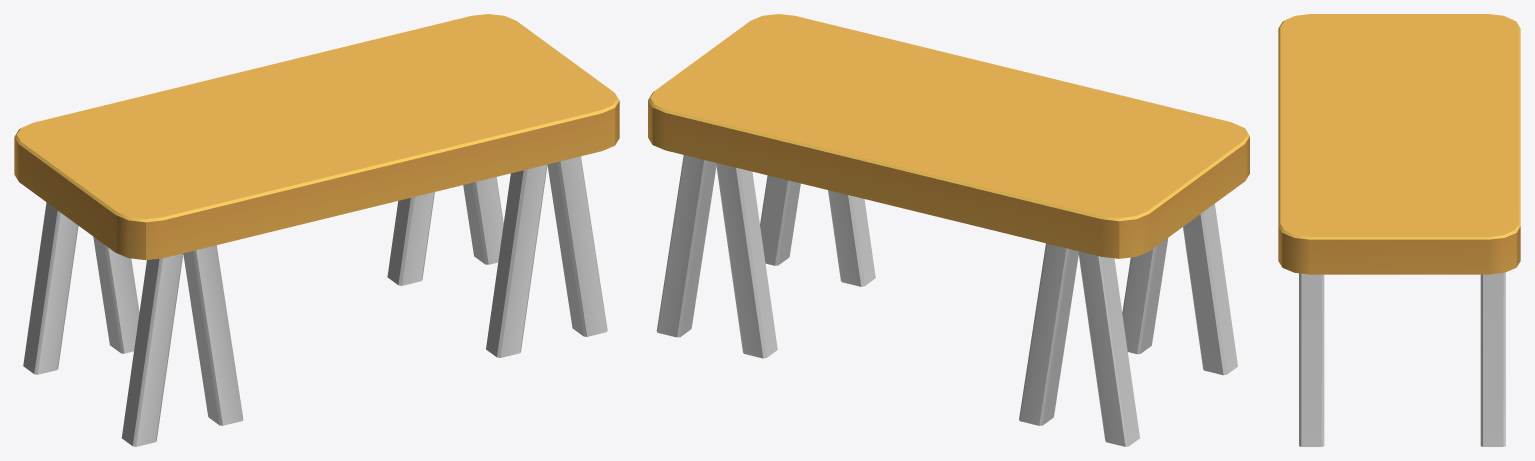
File: table36.fbx
3 renders of one model, left to right at view 1: azimuth 30°, elevation 25°; view 2: azimuth 150°, elevation 25°; view 3: azimuth 270°, elevation 25°, orthographic. The views are drawn at different scales.
Visible parts, largest first — view 1: table36; view 2: table36; view 3: table36.
Part boxes in pixels (x1,y1,x2,y2): table36: (14, 14, 619, 446); table36: (648, 14, 1249, 446); table36: (1278, 14, 1520, 446).
Bounding box in the file's own units: 8.97 × 4 × 4.09.
